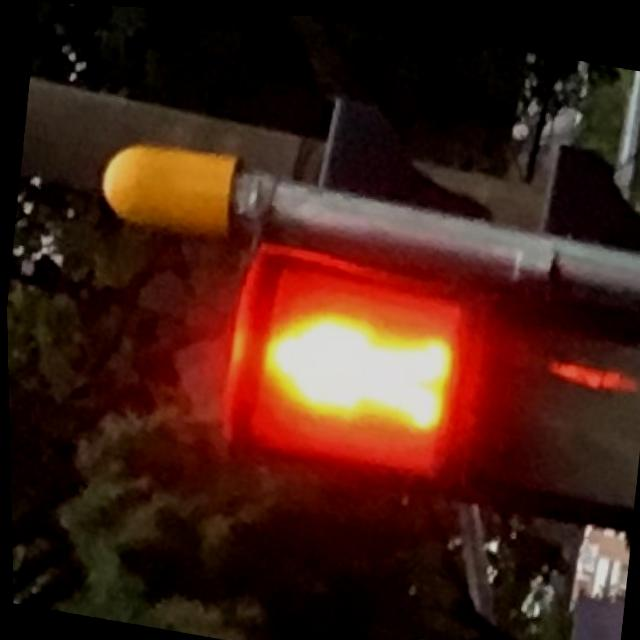red_light: (225, 256, 473, 481)
